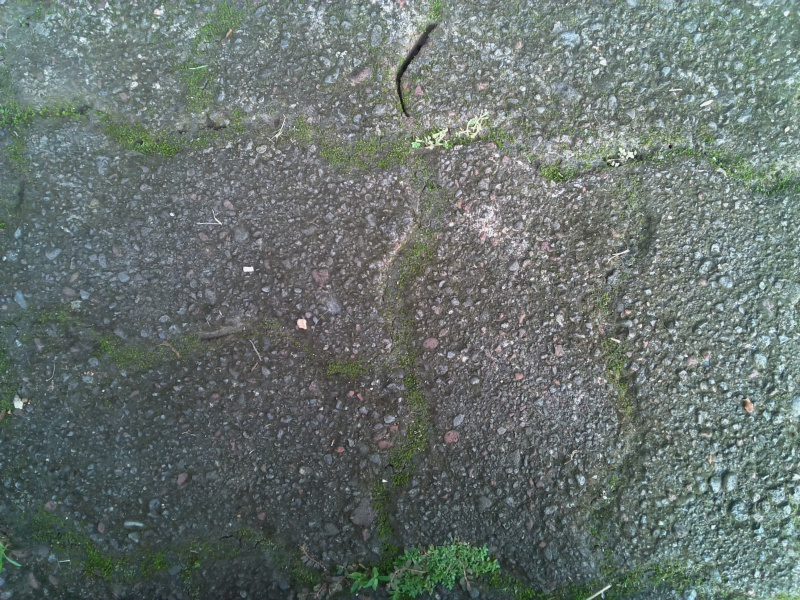Weed: (340, 541, 508, 600), (400, 111, 455, 158), (600, 135, 645, 187), (453, 103, 499, 150)
